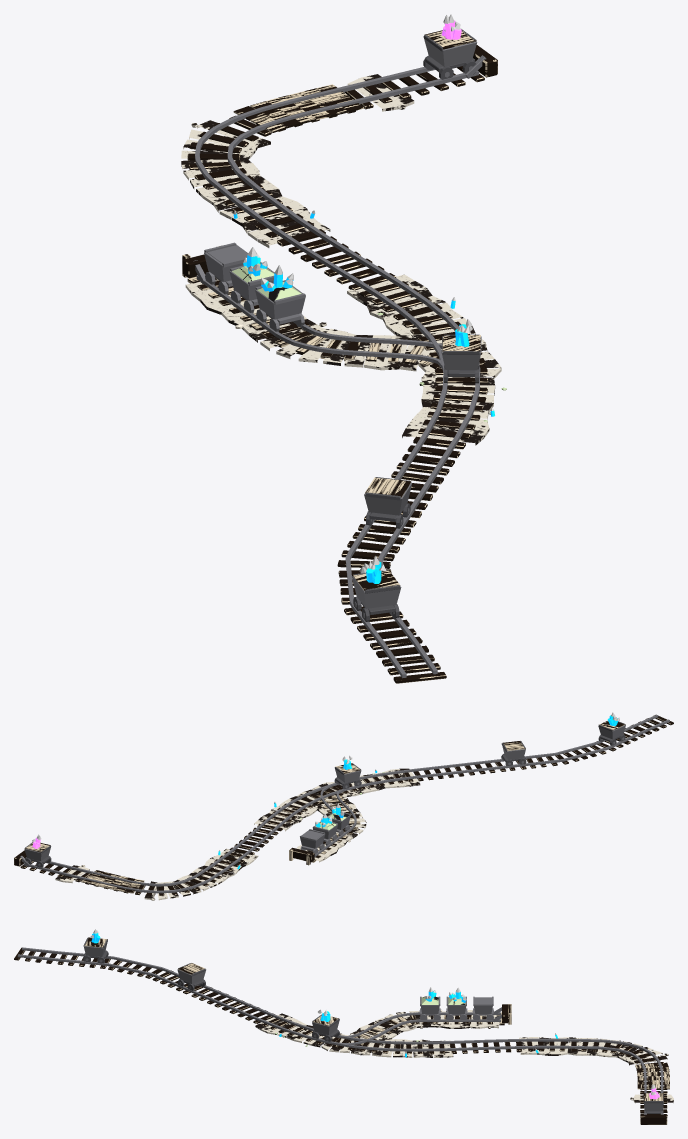
The model's file is LOBBY_10_RAILS_dd376e.fbx.
The picture shows the model from 3 angles, top to bottom: view 1: azimuth 30°, elevation 25°; view 2: azimuth 150°, elevation 25°; view 3: azimuth 270°, elevation 25°; orthographic projection. The views are drawn at different scales.
Visible parts, largest first — view 1: RAIL_Bed__Stone_Grout, RAIL_Main_Line__Wood_Dark, RAIL_Main_Line__Metal_Iron, RAIL_Bed__Metal_Iron, RAIL_Main_Line__Wood_Dark_B, RAIL_Mine_Carts__Metal_Iron, RAIL_Bed__Wood_Dark_C, RAIL_Mine_Carts__Metal_Dark, RAIL_Bed__Wood_Plank, RAIL_Mine_Carts__Wood_Plank_C; view 2: RAIL_Main_Line__Metal_Iron, RAIL_Bed__Stone_Grout, RAIL_Main_Line__Wood_Dark, RAIL_Bed__Metal_Iron, RAIL_Main_Line__Wood_Dark_B, RAIL_Mine_Carts__Metal_Iron, RAIL_Bed__Wood_Dark_C, RAIL_Mine_Carts__Metal_Dark, RAIL_Bed__Wood_Plank, RAIL_Mine_Carts__Wood_Plank_C; view 3: RAIL_Bed__Stone_Grout, RAIL_Main_Line__Metal_Iron, RAIL_Main_Line__Wood_Dark, RAIL_Bed__Metal_Iron, RAIL_Main_Line__Wood_Dark_B, RAIL_Mine_Carts__Metal_Iron, RAIL_Bed__Wood_Dark_C, RAIL_Mine_Carts__Metal_Dark, RAIL_Bed__Wood_Plank, RAIL_Mine_Carts__Wood_Plank_C.
Boxes of the visible parts, x1,y1,x2,y2 form: RAIL_Bed__Stone_Grout: (181, 74, 501, 445); RAIL_Main_Line__Wood_Dark: (187, 45, 497, 683); RAIL_Main_Line__Metal_Iron: (195, 55, 486, 678); RAIL_Bed__Metal_Iron: (193, 242, 442, 368); RAIL_Main_Line__Wood_Dark_B: (188, 80, 482, 675); RAIL_Mine_Carts__Metal_Iron: (352, 36, 481, 618); RAIL_Bed__Wood_Dark_C: (182, 246, 486, 373); RAIL_Mine_Carts__Metal_Dark: (353, 29, 479, 621); RAIL_Bed__Wood_Plank: (233, 84, 363, 132); RAIL_Mine_Carts__Wood_Plank_C: (353, 30, 480, 590); RAIL_Main_Line__Metal_Iron: (20, 714, 669, 893); RAIL_Bed__Stone_Grout: (55, 768, 420, 900); RAIL_Main_Line__Wood_Dark: (14, 715, 673, 895); RAIL_Bed__Metal_Iron: (295, 785, 356, 857); RAIL_Main_Line__Wood_Dark_B: (57, 718, 666, 895); RAIL_Mine_Carts__Metal_Iron: (24, 725, 625, 866); RAIL_Bed__Wood_Dark_C: (289, 786, 360, 865); RAIL_Mine_Carts__Metal_Dark: (24, 721, 625, 867); RAIL_Bed__Wood_Plank: (81, 870, 144, 893); RAIL_Mine_Carts__Wood_Plank_C: (25, 720, 625, 852); RAIL_Bed__Stone_Grout: (255, 1009, 673, 1103); RAIL_Main_Line__Metal_Iron: (17, 947, 663, 1114); RAIL_Main_Line__Wood_Dark: (14, 947, 667, 1124); RAIL_Bed__Metal_Iron: (338, 996, 501, 1044); RAIL_Main_Line__Wood_Dark_B: (25, 951, 667, 1103); RAIL_Mine_Carts__Metal_Iron: (83, 943, 663, 1111); RAIL_Bed__Wood_Dark_C: (332, 1004, 511, 1048); RAIL_Mine_Carts__Metal_Dark: (83, 937, 663, 1113); RAIL_Bed__Wood_Plank: (635, 1062, 669, 1089); RAIL_Mine_Carts__Wood_Plank_C: (84, 937, 663, 1101).
Size of the model in its own units: 64.64 by 5.72 by 102.
9 materials, 3 textured.
